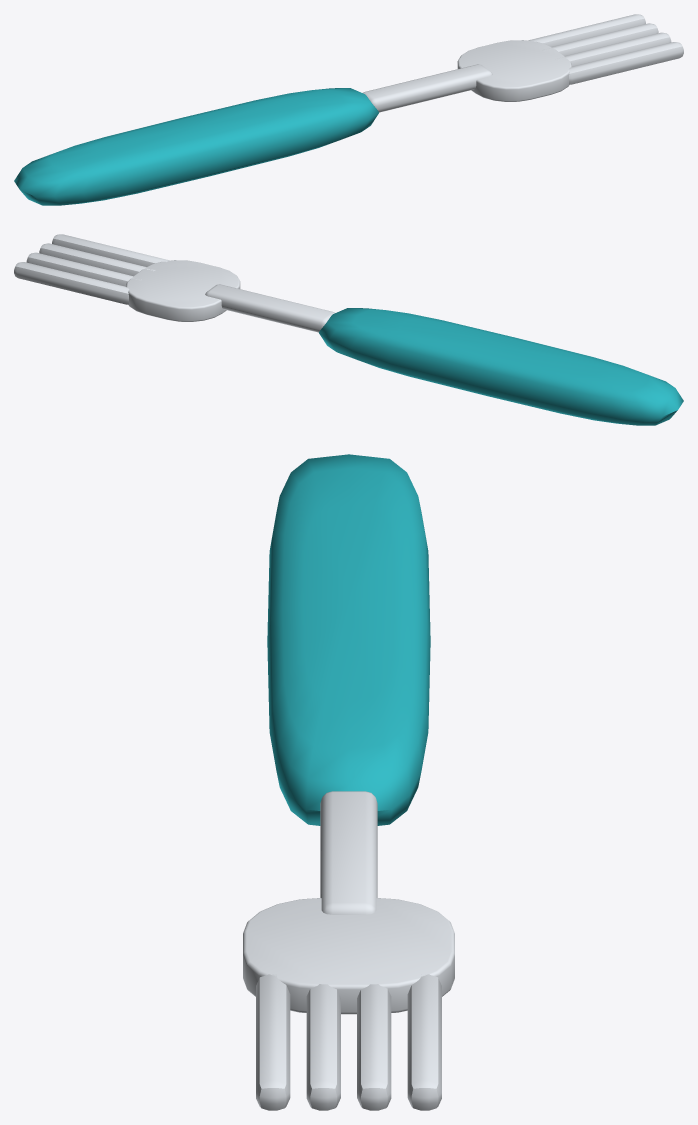
File: garfo.glb
3 views of the same model, one above another, from view 1: azimuth 30°, elevation 25°; view 2: azimuth 150°, elevation 25°; view 3: azimuth 270°, elevation 25° (orthographic). The views are drawn at different scales.
Visible parts, largest first — view 1: garfo; view 2: garfo; view 3: garfo.
Boxes of the visible parts, x1,y1,x2,y2 form: garfo: (14,14,683,205); garfo: (14,234,683,425); garfo: (243,454,454,1110).
Size of the model in its own units: 0.182 by 0.011 by 0.026.
1 material, 1 textured.
